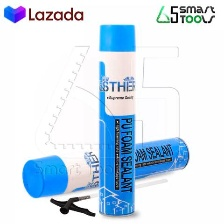aerosol_cans: (17, 134, 191, 201), (94, 20, 140, 220)
